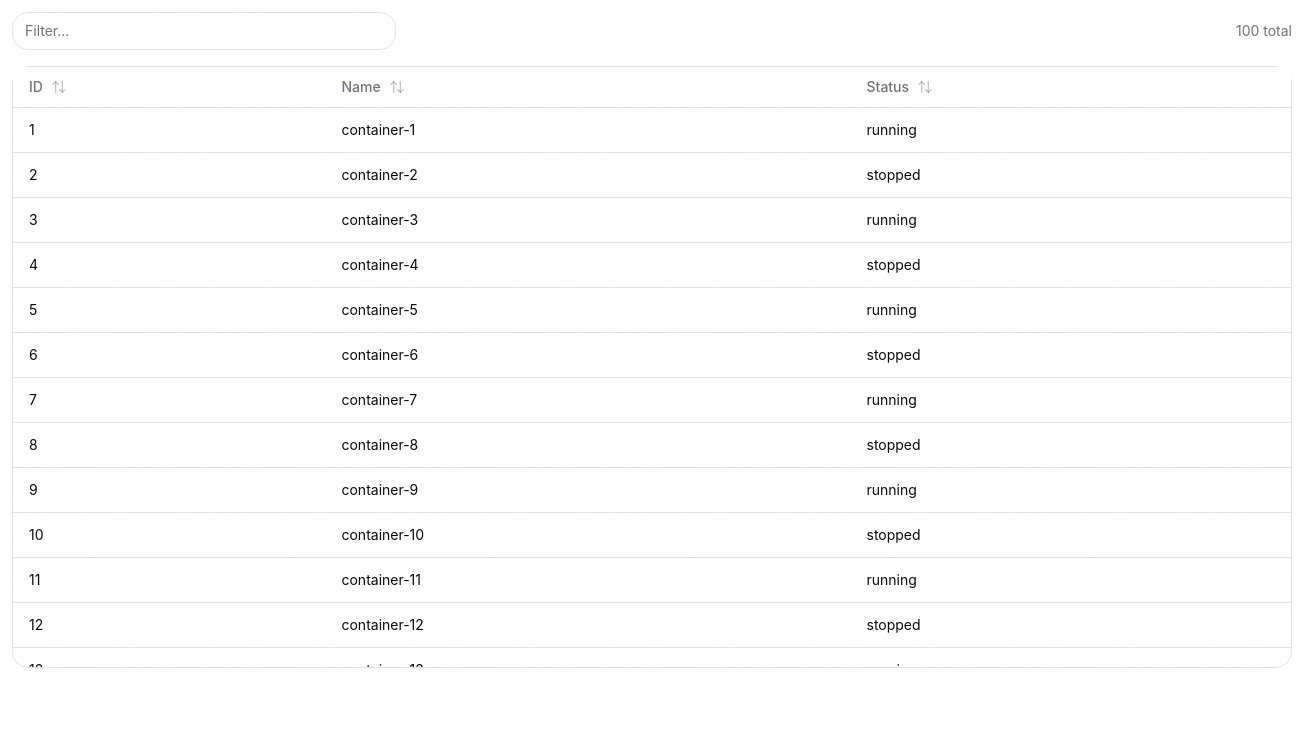
DataTable › virtual scrolling mode (large datasets) › shows empty state in virtual mode with no matching data
This screenshot has width=1304, height=732.
Type "nonexistent-xyz" into the field with placeholder "Filter...".
click(204, 31); type("nonexistent-xyz")  # box [12, 12, 396, 50]
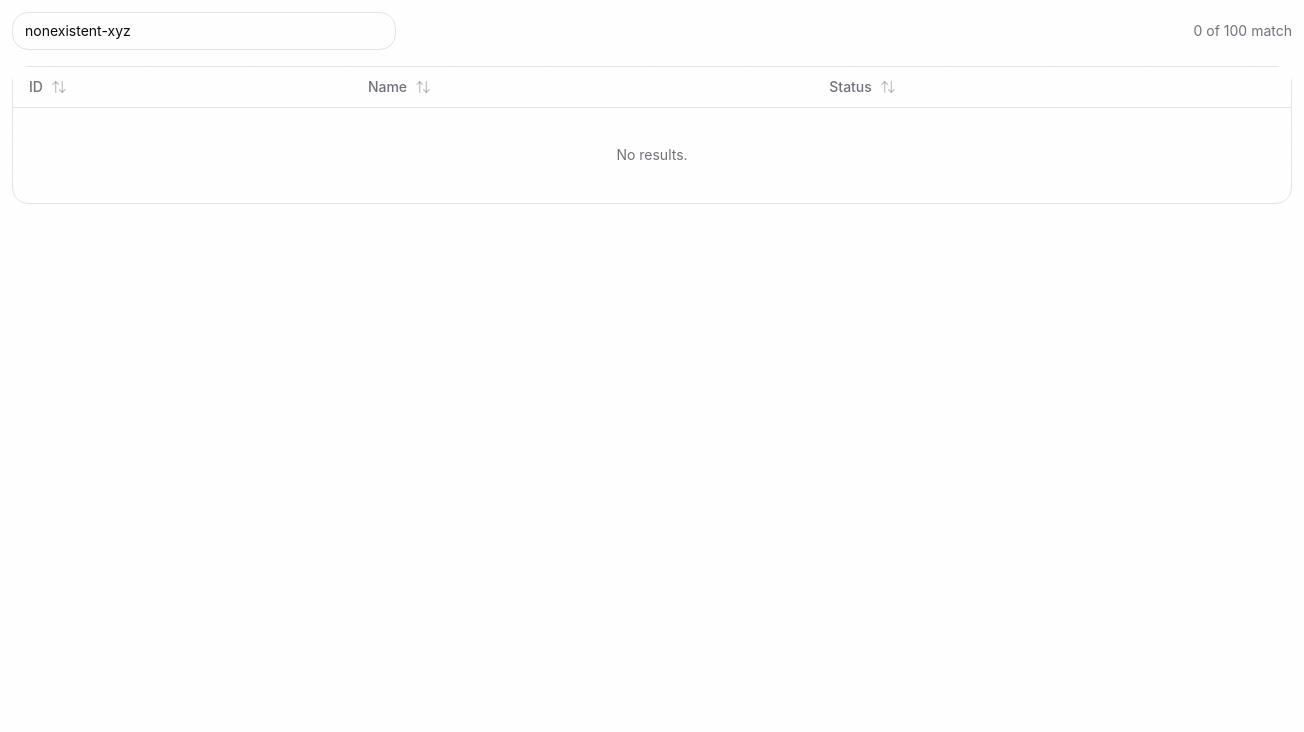
Now the text "No results." is shown, box [13, 107, 1291, 203]
